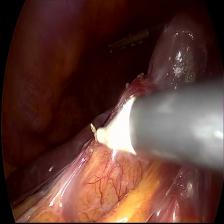Grasper: (105, 22, 151, 58)
Hook: (88, 93, 138, 165)
